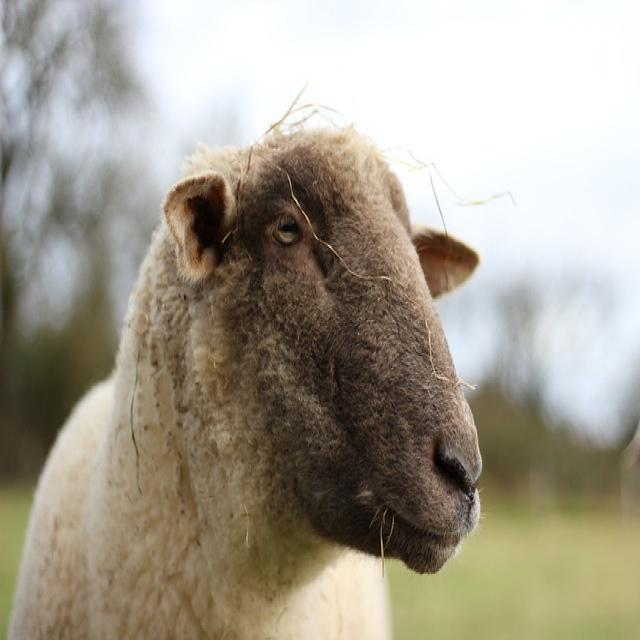goat: (4, 89, 485, 640)
